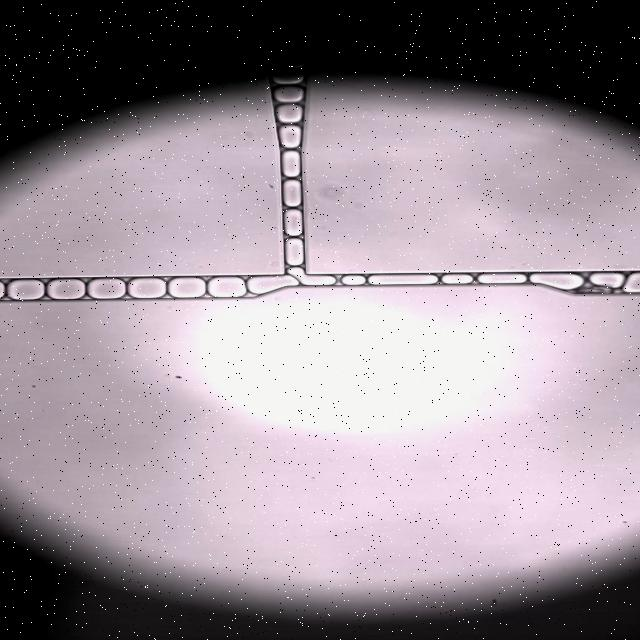L: (289, 268, 365, 286), (273, 85, 304, 103), (275, 105, 303, 124), (478, 273, 526, 284), (589, 273, 624, 288), (285, 239, 304, 266), (279, 125, 301, 148), (281, 151, 300, 177), (283, 180, 301, 207), (285, 209, 303, 236), (272, 73, 303, 85)
S: (368, 273, 473, 285), (531, 273, 583, 291), (247, 276, 298, 294), (7, 279, 45, 300), (88, 278, 126, 299), (46, 279, 85, 299), (127, 278, 166, 298), (169, 278, 206, 298), (209, 277, 245, 297), (623, 273, 640, 292), (0, 282, 4, 299)
